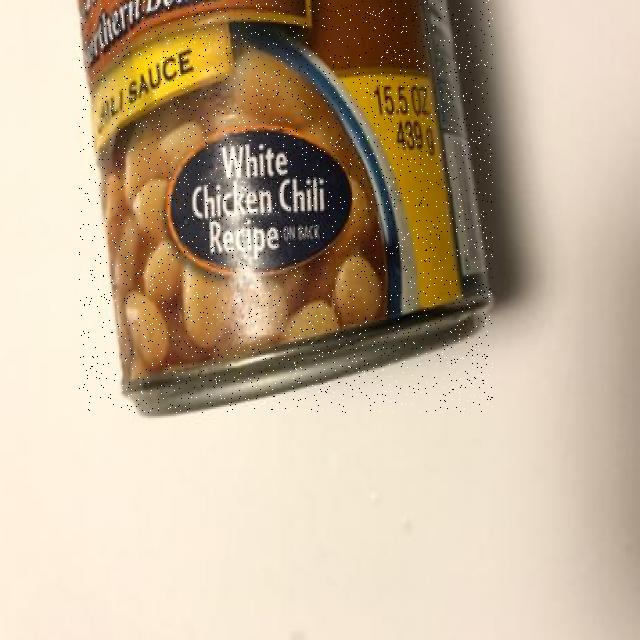metal: (79, 0, 493, 413)
